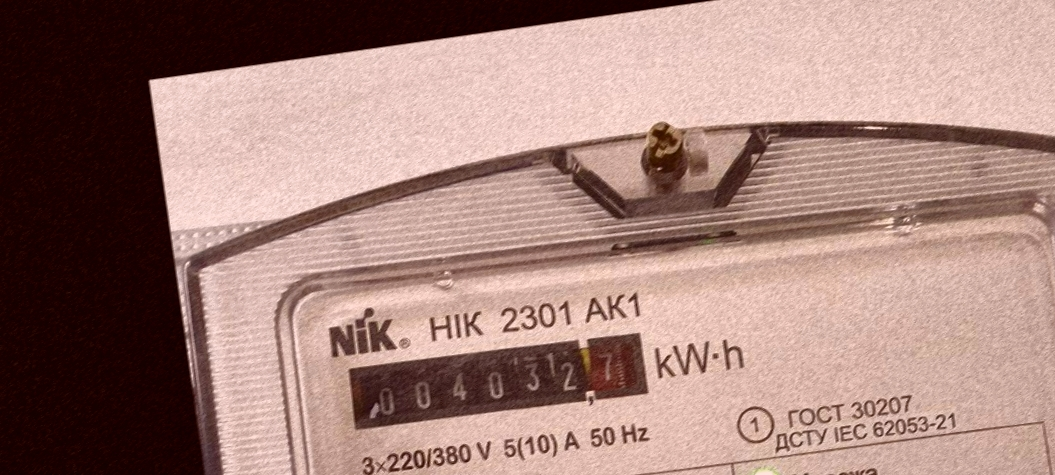0: (412, 379, 436, 414), (376, 384, 399, 419), (485, 369, 508, 404)
2: (558, 359, 581, 396)
3: (522, 361, 545, 396)
4: (448, 371, 473, 409)
7: (599, 351, 620, 386)
screen: (338, 320, 661, 450)
